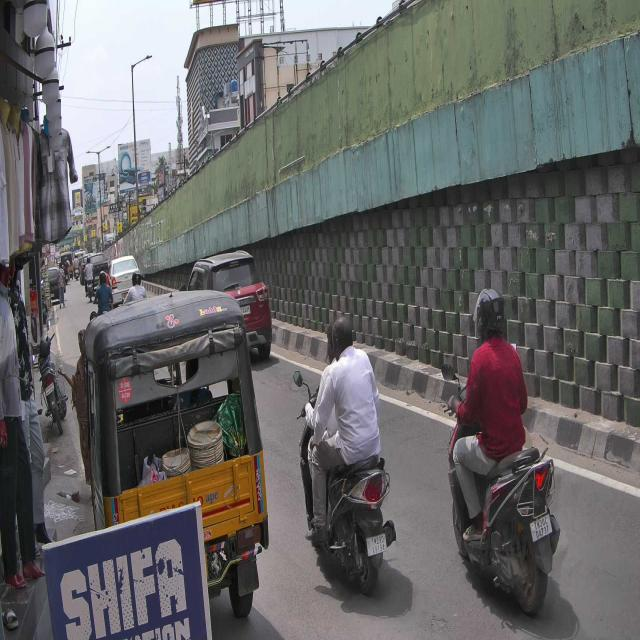double_rider: (292, 307, 398, 594)
